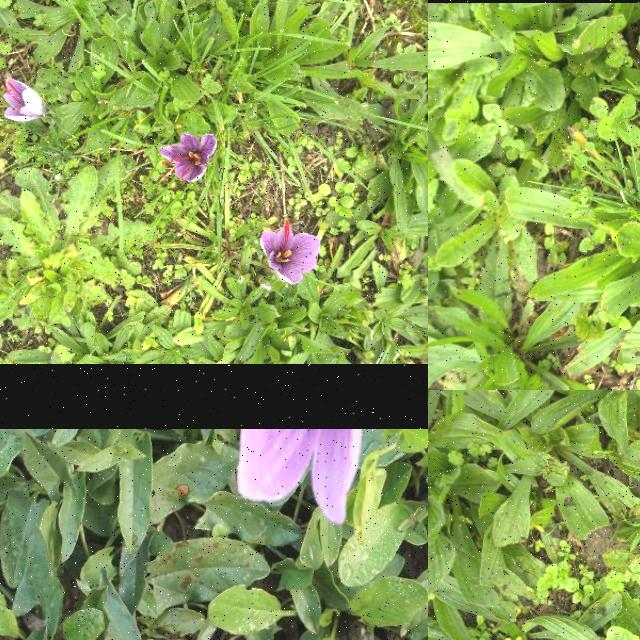flower: (261, 220, 321, 286), (158, 134, 218, 184), (3, 78, 43, 122)
